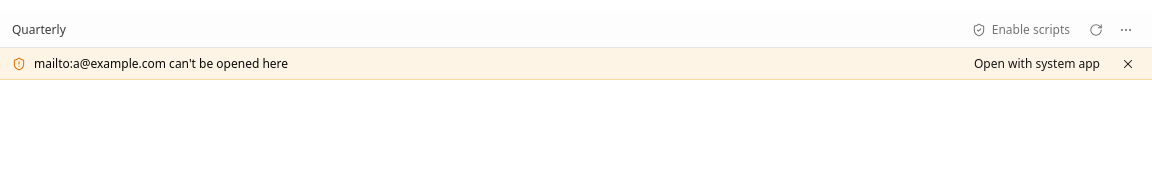
DocGuestPreview › hands a mailto: link to the system and reports a refused download
Click the button "Open with system app" at x=1037, y=64, box top-left (966, 54), bottom-right (1108, 74)
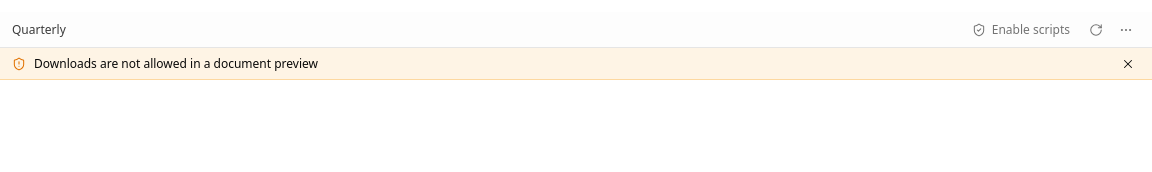
Expected: the text "Downloads are not allowed in a document preview" is shown, top-left (34, 54), bottom-right (318, 72)
